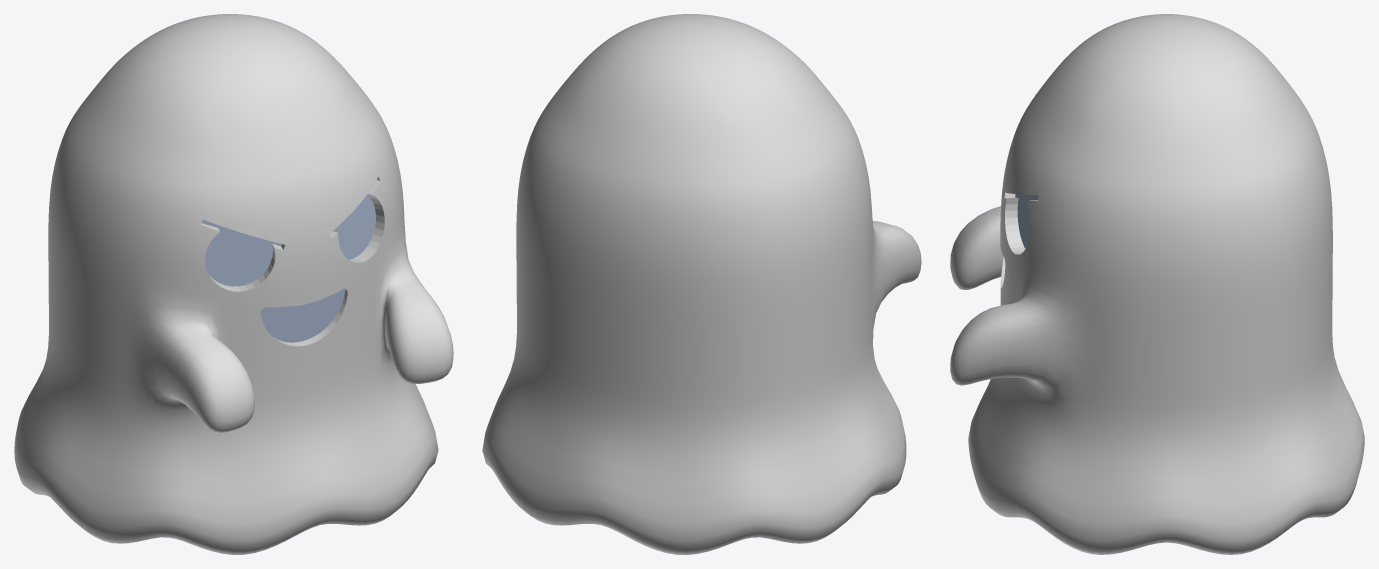
File: ghost_normal.fbx
3 views of the same model, side by side, from view 1: azimuth 30°, elevation 25°; view 2: azimuth 150°, elevation 25°; view 3: azimuth 270°, elevation 25° (orthographic).
Visible parts, largest first — view 1: eye_boolean.004; view 2: eye_boolean.004; view 3: eye_boolean.004.
Part boxes in pixels (bbox=[...]): eye_boolean.004: bbox=[14, 14, 453, 554]; eye_boolean.004: bbox=[482, 14, 921, 554]; eye_boolean.004: bbox=[950, 14, 1364, 554].
Size of the model in its own units: 276 by 321 by 270.
